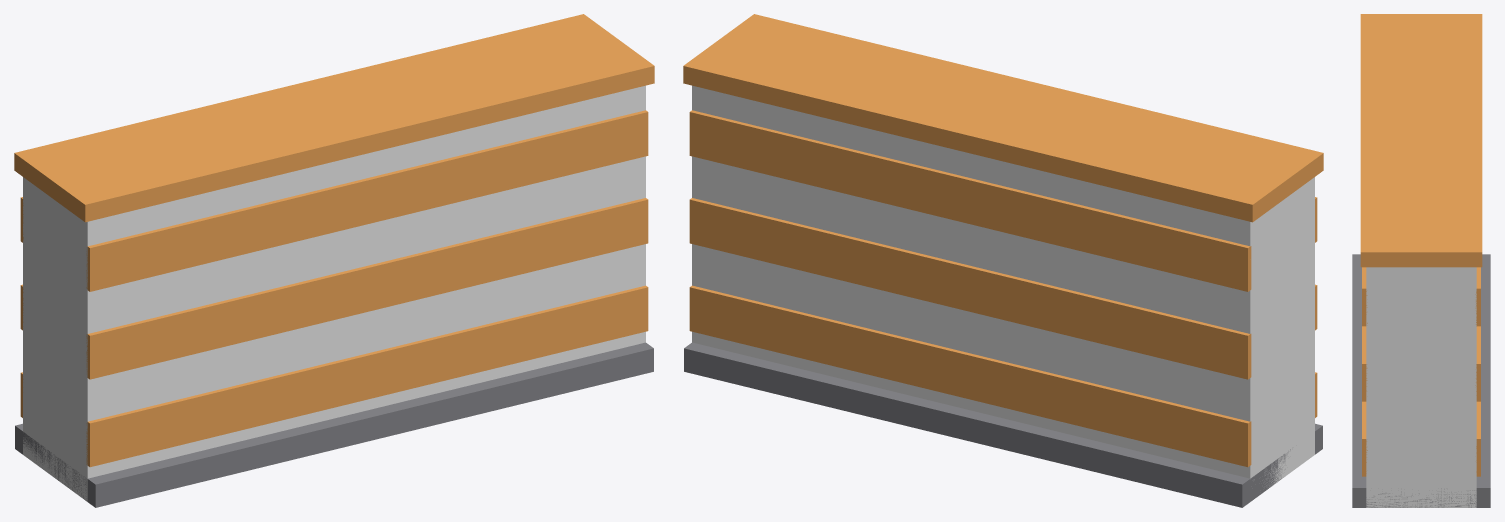
File: barrier.glb
The picture shows the model from 3 angles, left to right: view 1: azimuth 30°, elevation 25°; view 2: azimuth 150°, elevation 25°; view 3: azimuth 270°, elevation 25°; orthographic projection. The views are drawn at different scales.
Visible parts, largest first — view 1: BarrierBody, TopCap, StripeF1, StripeF3, StripeF2, Foot; view 2: BarrierBody, TopCap, StripeB1, StripeB3, StripeB2, Foot; view 3: TopCap, BarrierBody, Foot, StripeF2, StripeB2, StripeF1, StripeB1, StripeB3, StripeF3.
Boxes of the visible parts, x1,y1,x2,y2 form: BarrierBody: (23, 85, 645, 501); TopCap: (14, 14, 654, 222); StripeF1: (86, 285, 648, 467); StripeF3: (86, 110, 648, 291); StripeF2: (86, 198, 648, 379); Foot: (15, 342, 653, 507); BarrierBody: (692, 85, 1314, 487); TopCap: (683, 14, 1323, 222); StripeB1: (689, 285, 1251, 467); StripeB3: (689, 110, 1251, 291); StripeB2: (689, 198, 1251, 379); Foot: (684, 342, 1322, 507); TopCap: (1360, 14, 1482, 267); BarrierBody: (1366, 267, 1476, 507); Foot: (1352, 254, 1490, 507); StripeF2: (1362, 326, 1367, 401); StripeB2: (1475, 326, 1480, 401); StripeF1: (1362, 401, 1367, 476); StripeB1: (1476, 401, 1480, 476); StripeB3: (1475, 267, 1480, 326); StripeF3: (1362, 267, 1367, 326).
Bounding box in the file's own units: 2.04 × 1.03 × 0.5.
